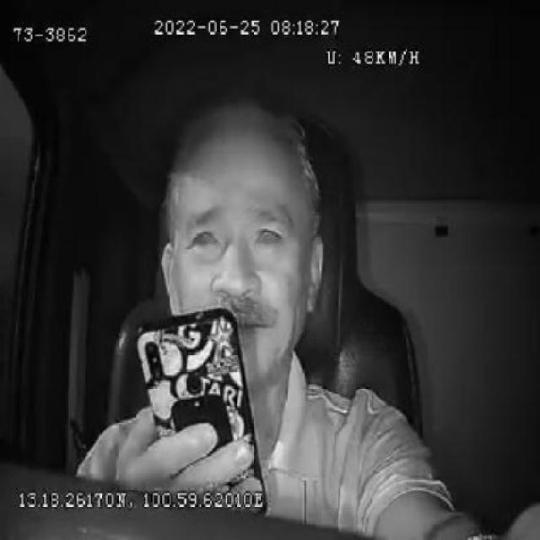phone: (136, 309, 265, 494)
